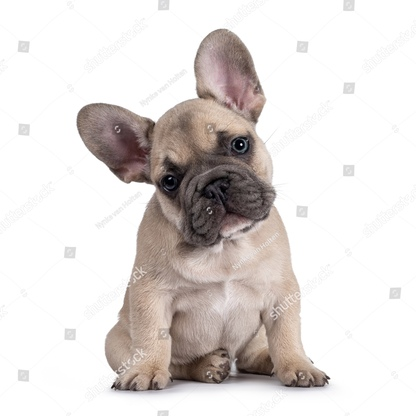bulldog: (73, 26, 336, 401)
